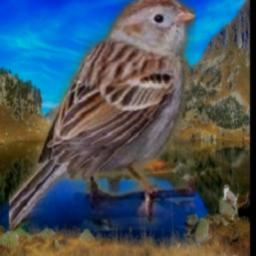Cuckoo: (223, 184, 239, 219)
Sparrow: (10, 0, 196, 231)
